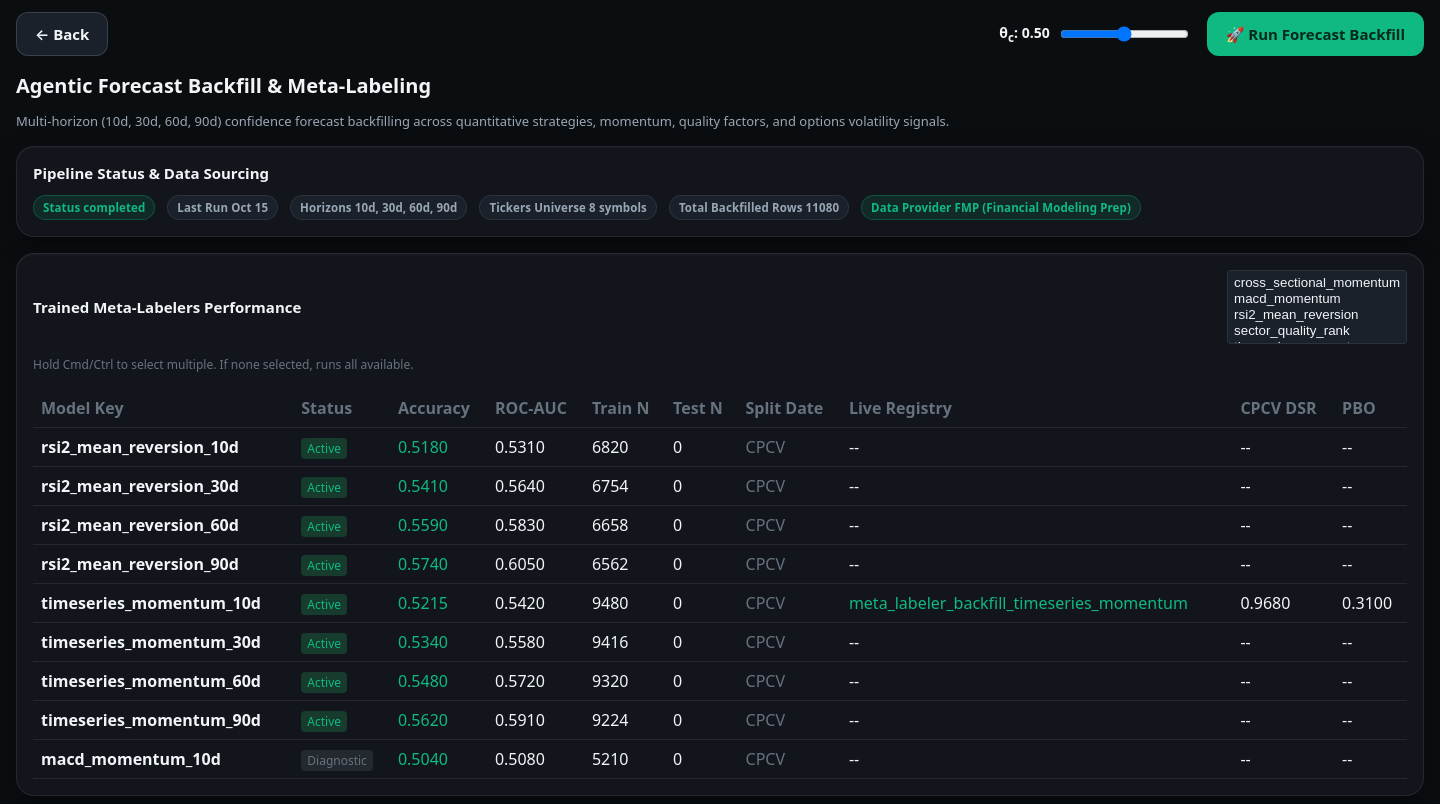
Test case: ForecastBackfillScreen (real mock API) › a failed run renders the honest failure message, not a silent no-op
The image size is (1440, 804).
Check: the text "timeseries_momentum_10d" is shown, box [33,584,293,623]
Step 1. Click the button "🚀 Run Forecast Backfill" → point(1315, 34), box [1207,12,1424,56]
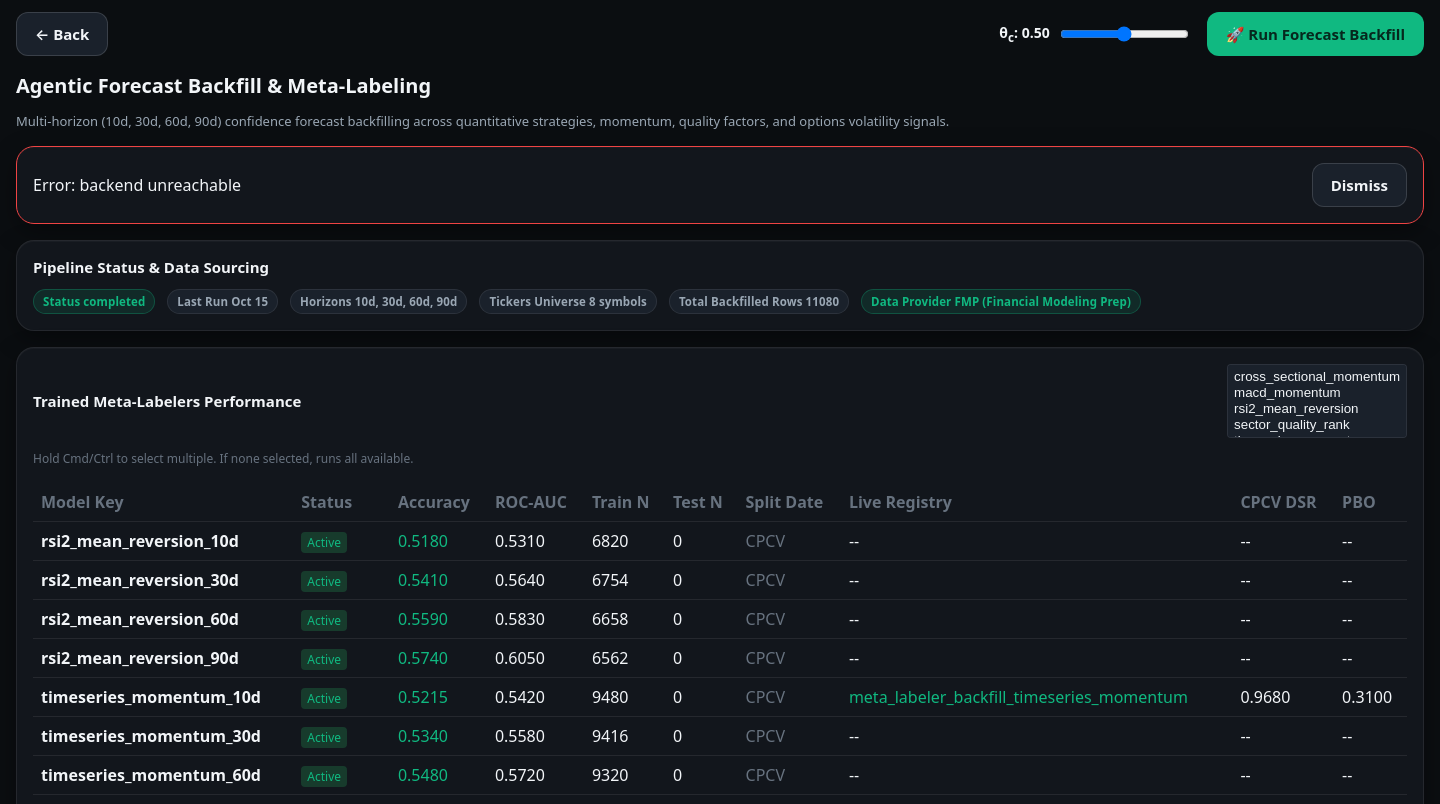
Check: the text "Error: backend unreachable" is shown, box [33,174,241,196]
